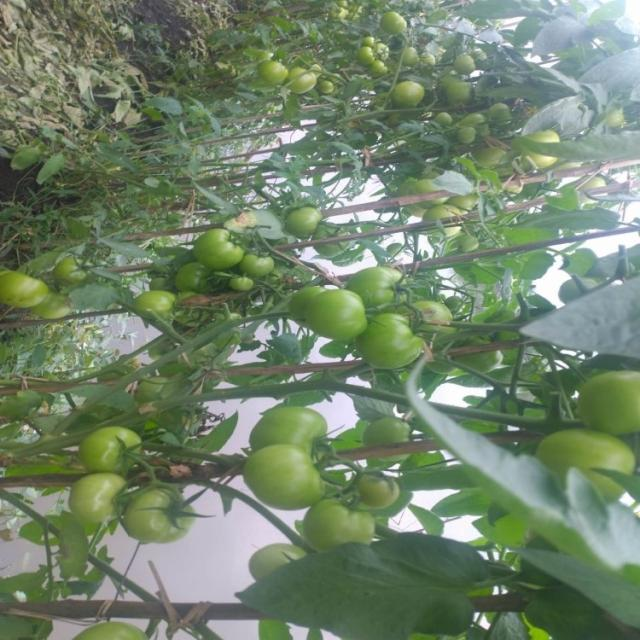tomato: (533, 428, 640, 501), (235, 396, 346, 466), (242, 447, 350, 510), (116, 480, 202, 546), (356, 304, 422, 370), (296, 502, 383, 551), (571, 370, 640, 429), (309, 283, 368, 349), (74, 416, 137, 470), (344, 261, 417, 307), (350, 464, 415, 514), (74, 470, 135, 523), (1, 257, 53, 316), (238, 538, 304, 579), (189, 224, 248, 269), (359, 413, 419, 450), (414, 290, 449, 334), (293, 63, 329, 103), (283, 283, 318, 323), (286, 205, 325, 239), (175, 261, 219, 291), (137, 289, 173, 322), (430, 195, 464, 229), (388, 77, 418, 110), (235, 253, 278, 276), (438, 77, 472, 106), (59, 256, 98, 281), (472, 104, 501, 134), (356, 43, 386, 70), (371, 53, 398, 81), (315, 78, 343, 103), (225, 270, 252, 293), (261, 65, 295, 82), (445, 120, 470, 141), (404, 45, 424, 71), (429, 106, 455, 125), (378, 9, 397, 23), (457, 51, 475, 64)
